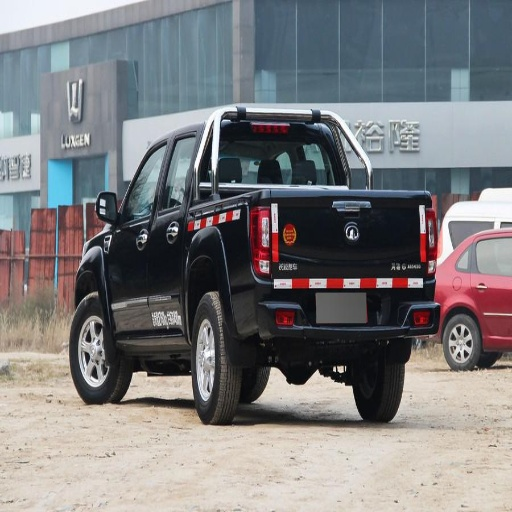back_bumper: (291, 304, 440, 338), (247, 300, 301, 335)
back_right_door: (469, 235, 509, 335)
trunk: (152, 188, 424, 332)
